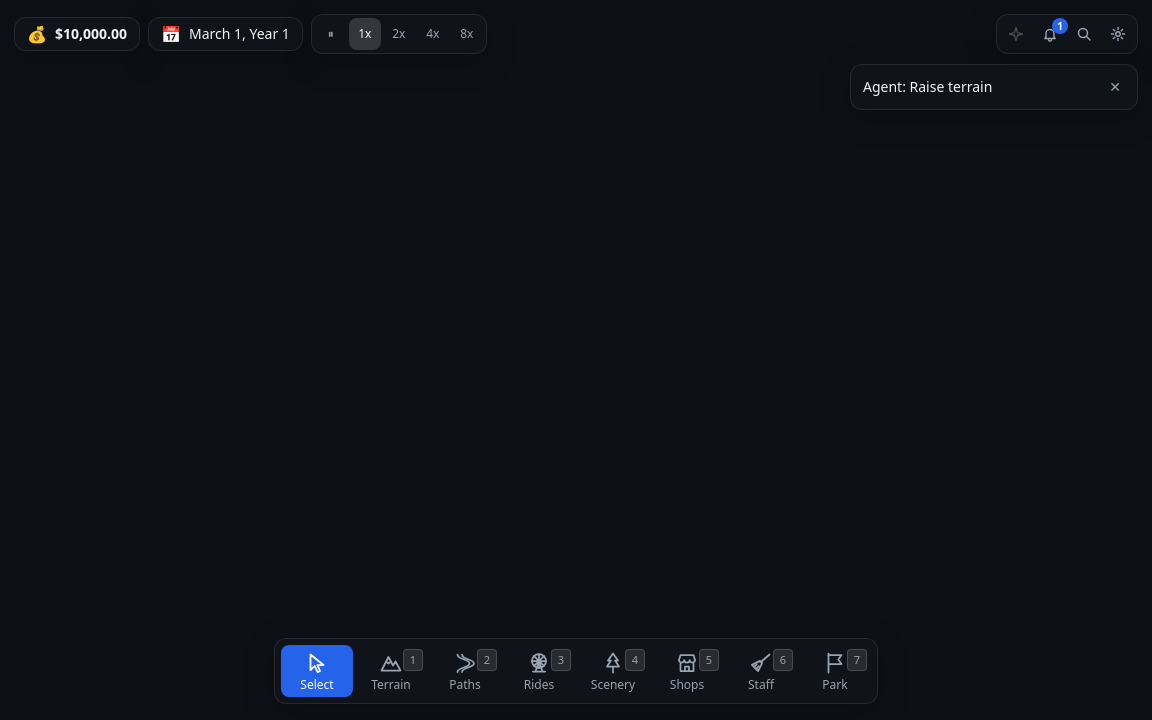
Test case: the toast of an agent's command › jumps to the area it changed when clicked, and is gone
Click the button "Agent: Raise terrain".
click(977, 87)  # box [863,71,1091,103]
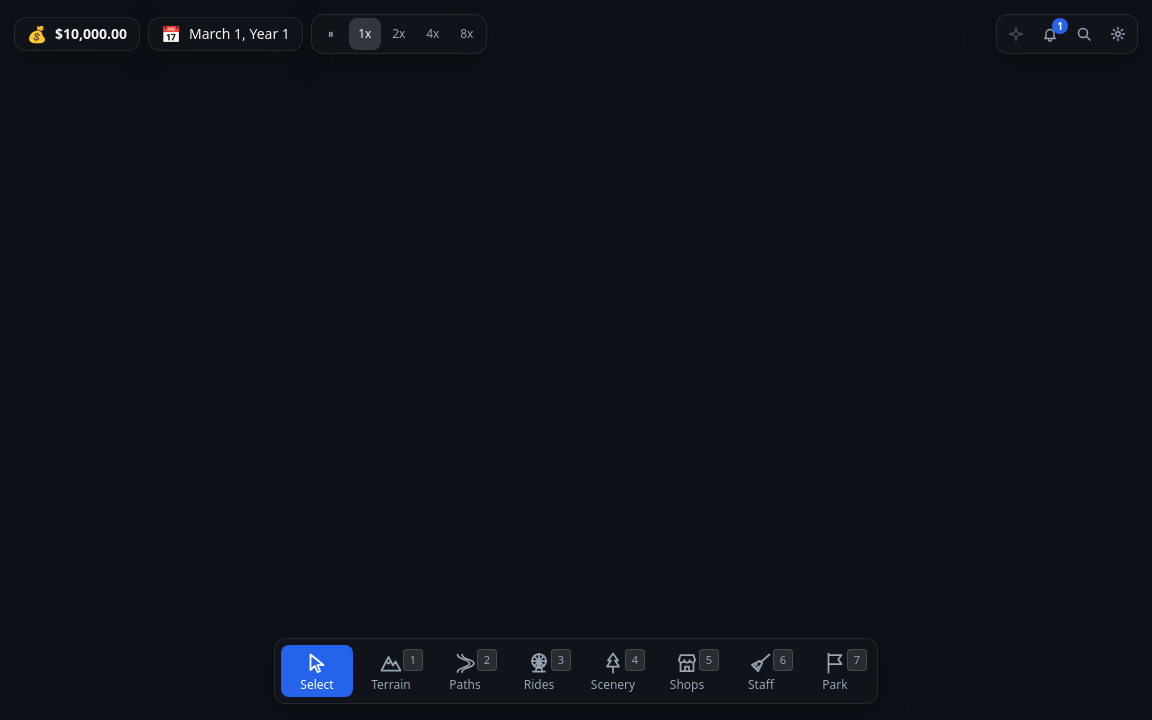
Expected: the button "Agent: Raise terrain" is gone
